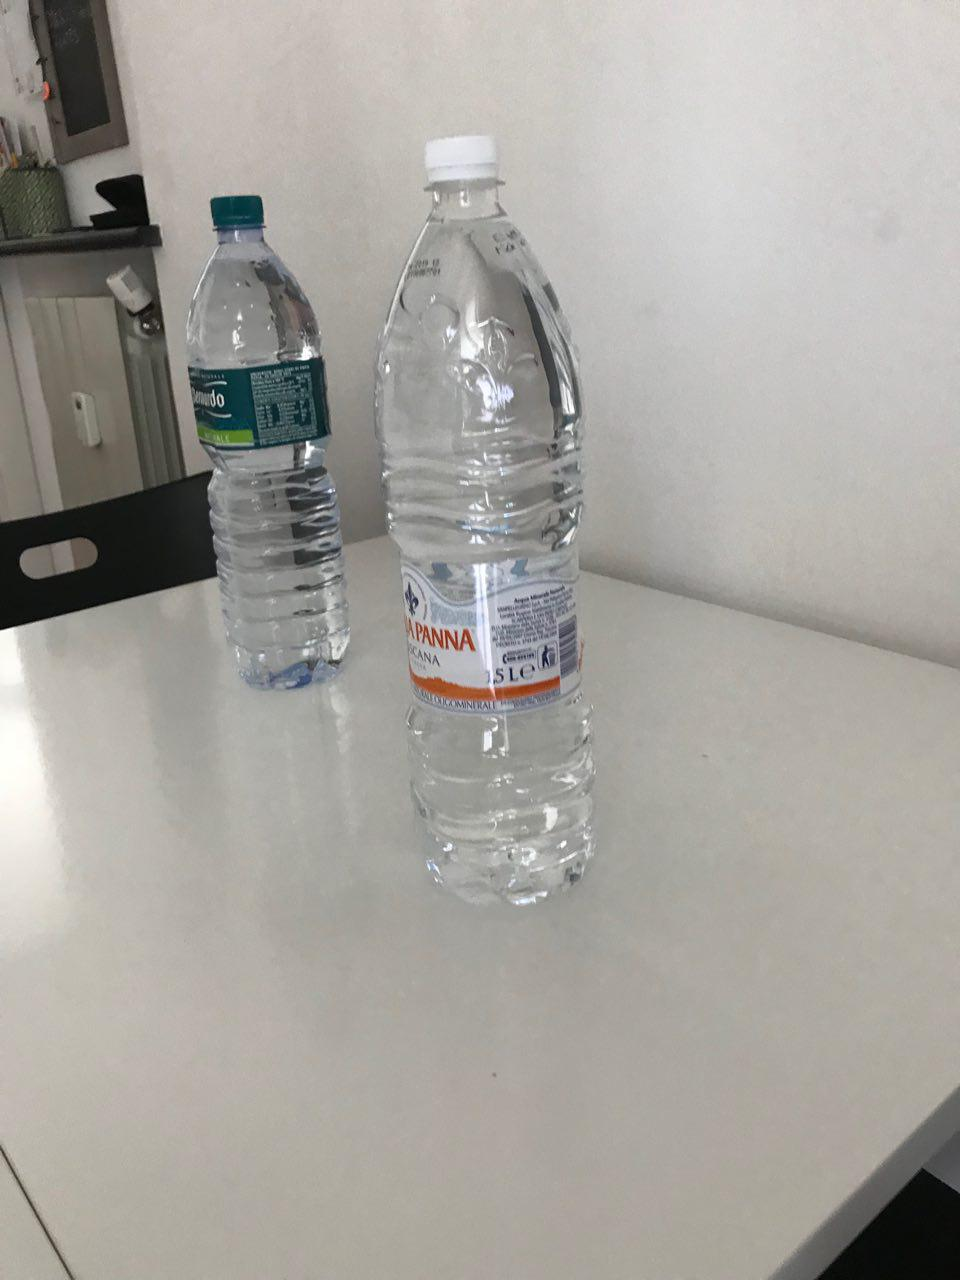san_bernardo: (185, 195, 352, 691)
